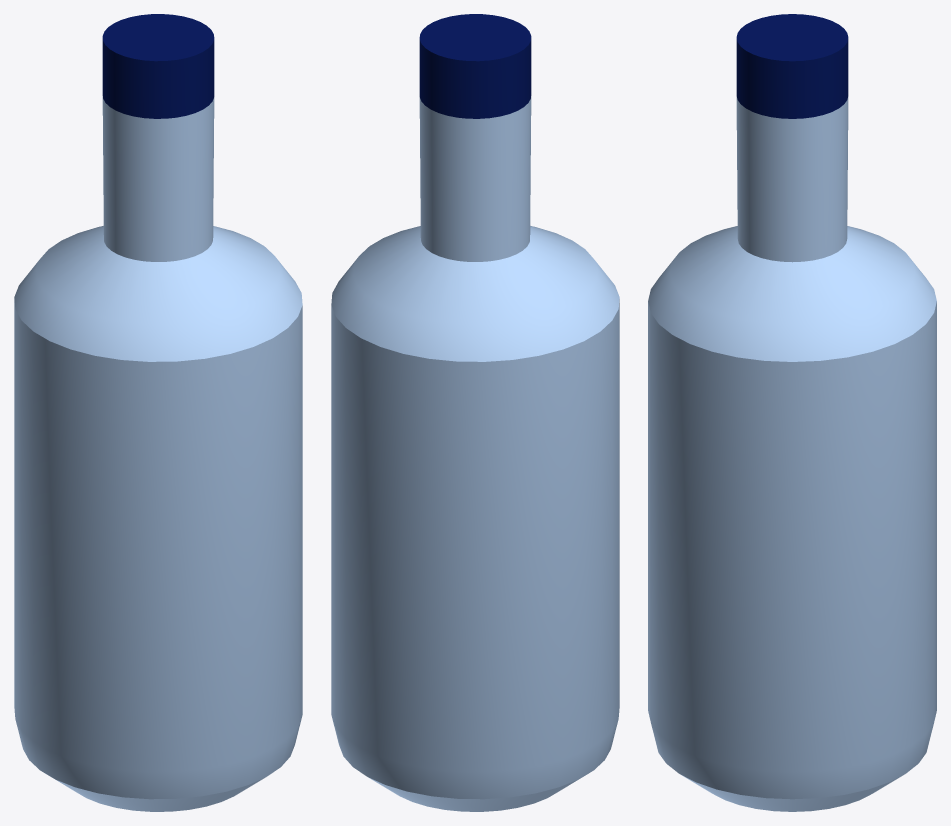
The model's file is item2.fbx.
3 renders of one model, left to right at view 1: azimuth 30°, elevation 25°; view 2: azimuth 150°, elevation 25°; view 3: azimuth 270°, elevation 25°, orthographic.
Visible parts, largest first — view 1: Cylinder.001; view 2: Cylinder.001; view 3: Cylinder.001.
Part boxes in pixels (bbox=[...]): Cylinder.001: bbox=[14, 14, 302, 811]; Cylinder.001: bbox=[331, 14, 619, 811]; Cylinder.001: bbox=[648, 14, 936, 811].
Bounding box in the file's own units: 200 × 561 × 200.
